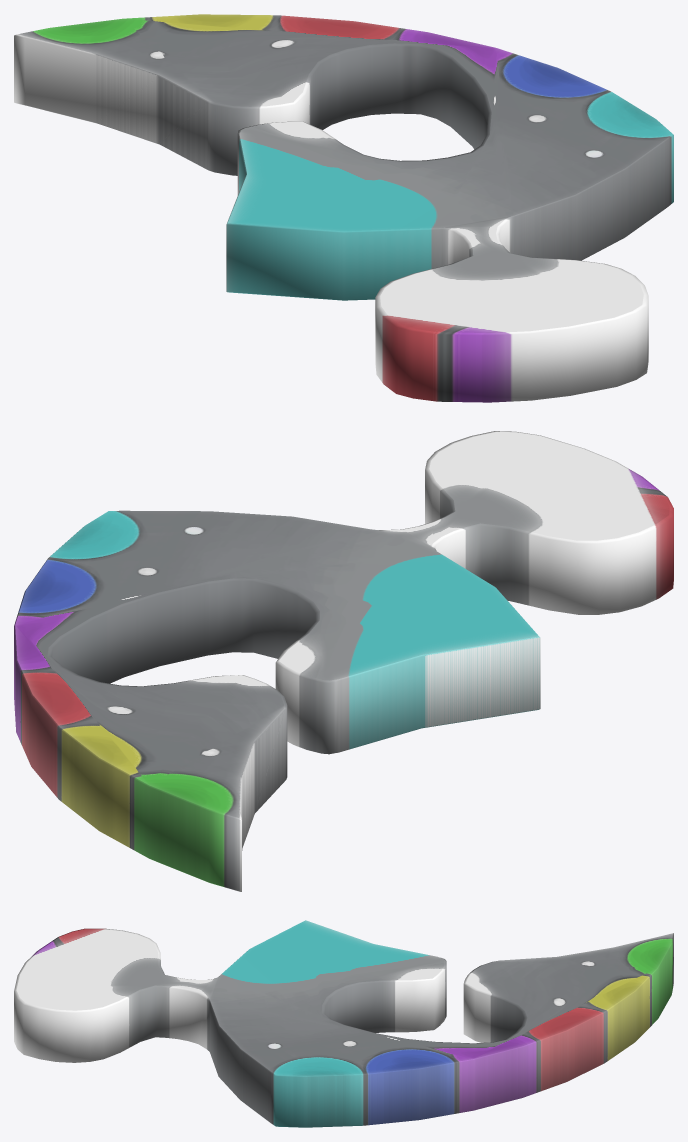
File: Puzzle_pieces_1.FBX
The picture shows the model from 3 angles, top to bottom: view 1: azimuth 30°, elevation 25°; view 2: azimuth 150°, elevation 25°; view 3: azimuth 270°, elevation 25°; orthographic projection. The views are drawn at different scales.
Parts seen in each view (by area): view 1: Object010; view 2: Object010; view 3: Object010.
Part boxes in pixels (box(x1,y1,x2,y2)): Object010: box(14, 14, 673, 402); Object010: box(14, 431, 673, 891); Object010: box(14, 920, 673, 1127).
Bounding box in the file's own units: 4477 × 690 × 7967.
